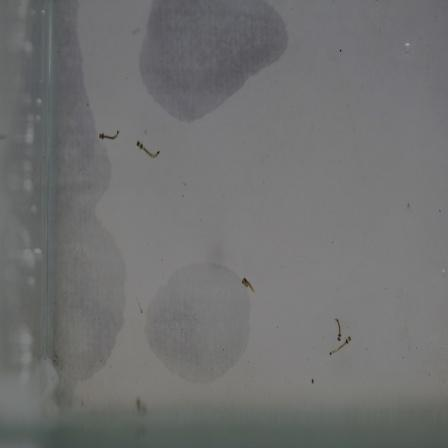Jentik-Nyamuk: (326, 313, 354, 361), (132, 138, 167, 166), (96, 124, 125, 148), (236, 270, 257, 297)
